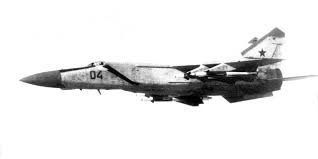fighter: (16, 24, 317, 109)
